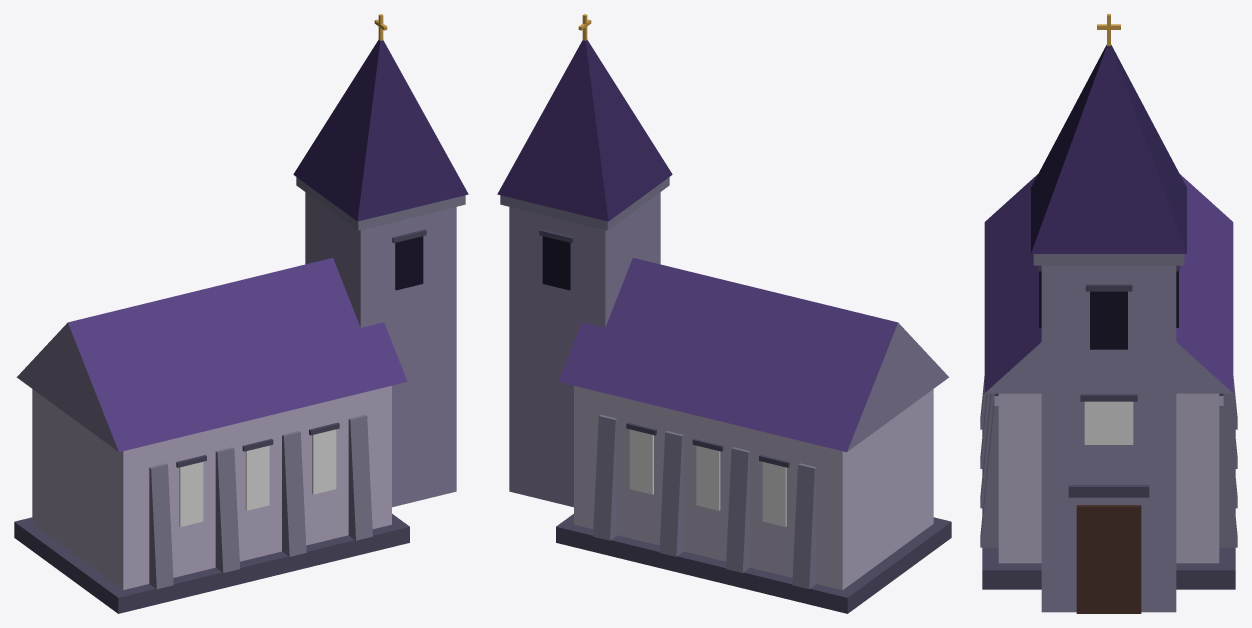
Rendered from Set_Chapel.fbx.
3 views of the same model, side by side, from view 1: azimuth 30°, elevation 25°; view 2: azimuth 150°, elevation 25°; view 3: azimuth 270°, elevation 25° (orthographic). The views are drawn at different scales.
Parts seen in each view (by area): view 1: Set_Chapel; view 2: Set_Chapel; view 3: Set_Chapel.
Boxes of the visible parts, x1,y1,x2,y2 form: Set_Chapel: [14, 14, 468, 613]; Set_Chapel: [497, 14, 951, 613]; Set_Chapel: [980, 14, 1237, 613].
Size of what is drawn, in the model's own units: 9.65 by 12.05 by 4.78.
2 materials, 1 textured.
